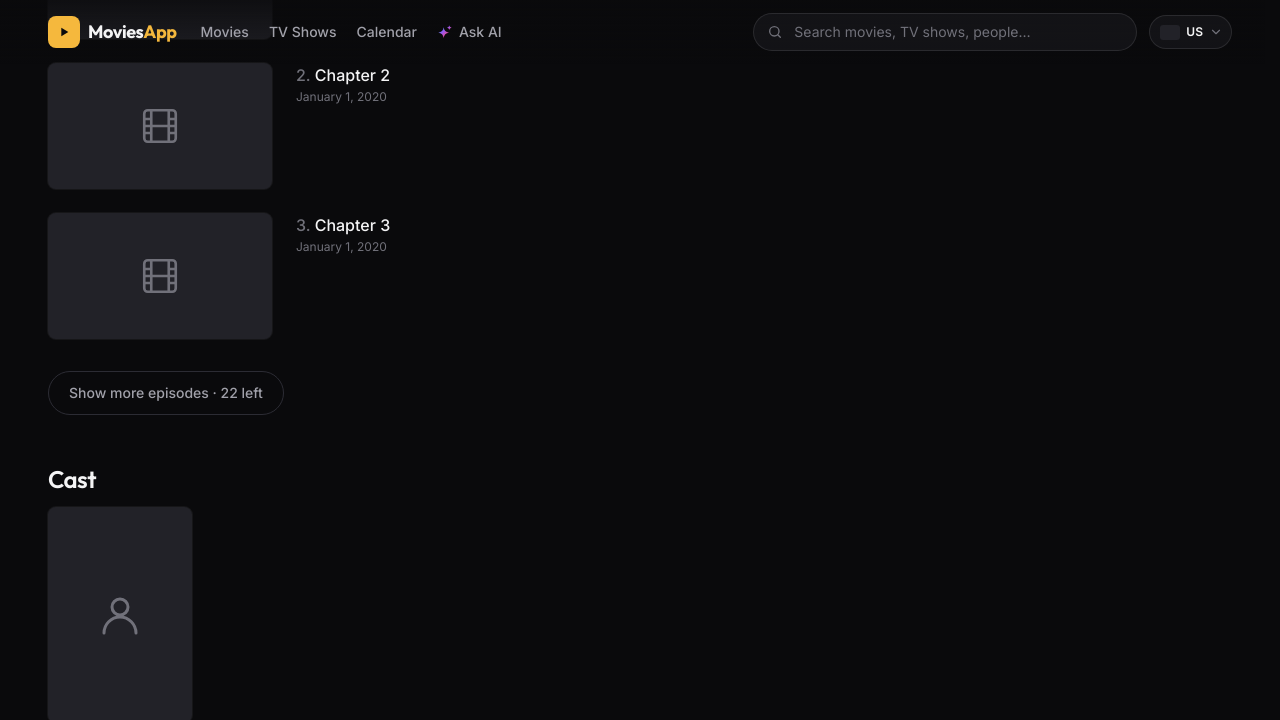
Test: MediaPage › shows the first three episodes, then ten more at a time, and collapses back
(page scrolled)
Check: the button "Show less" is not shown
Click the button "Show more episodes · 22 left": (166, 392) [48,370,284,414]
(page scrolled)
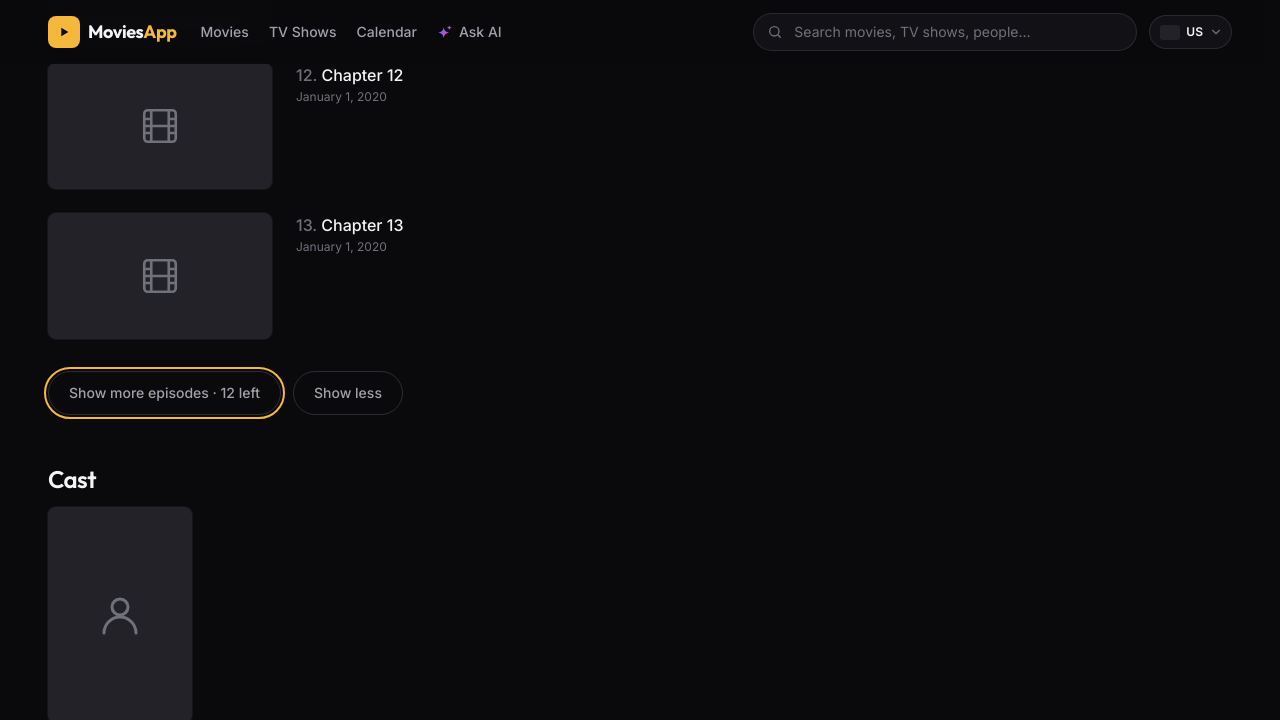
Click the button "Show more episodes · 12 left": (165, 392) [48,370,281,414]
(page scrolled)
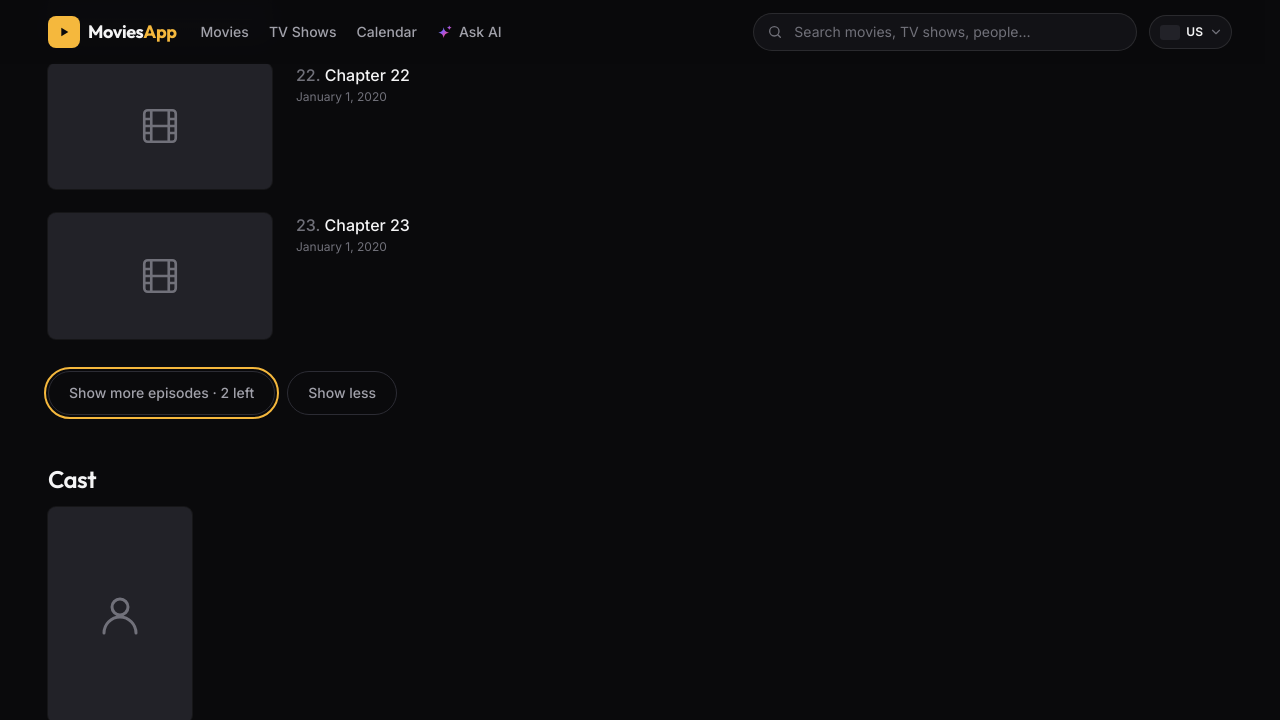
Click the button "Show more episodes · 2 left": (162, 392) [48,370,275,414]
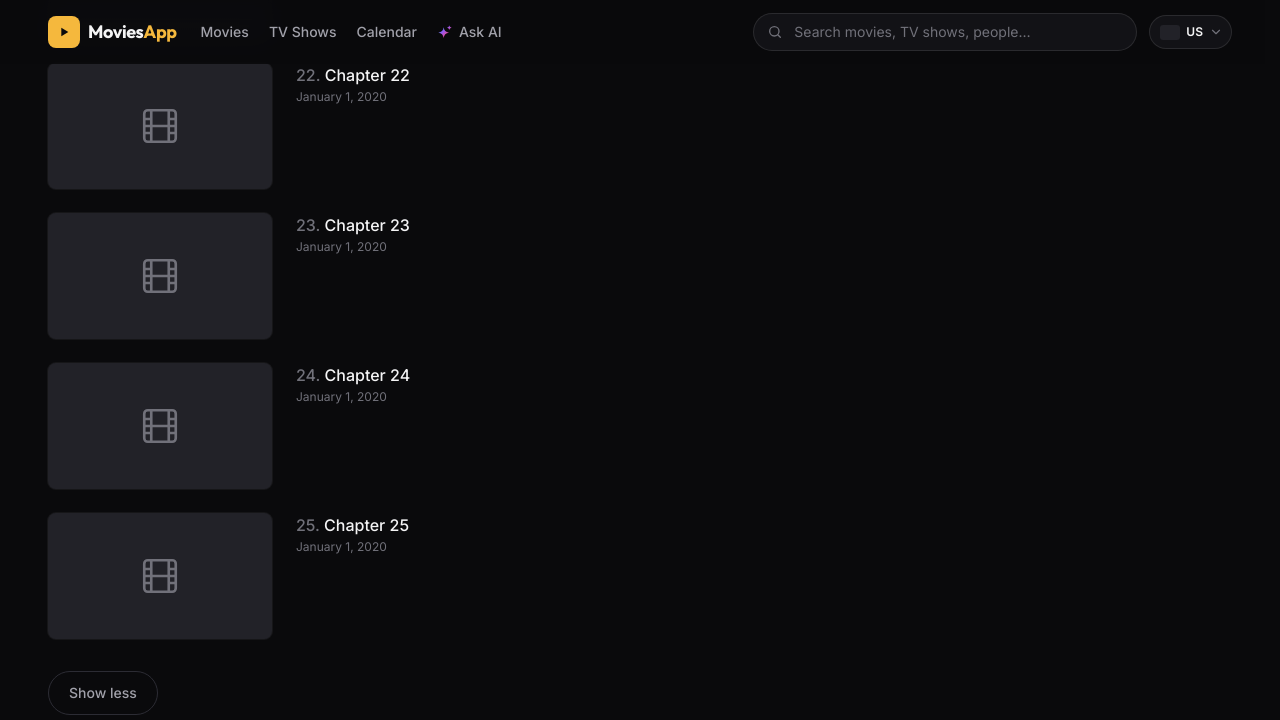
Check: the button "Show more episodes" is gone
Click the button "Show less": (103, 692) [48,670,158,714]
(page scrolled)
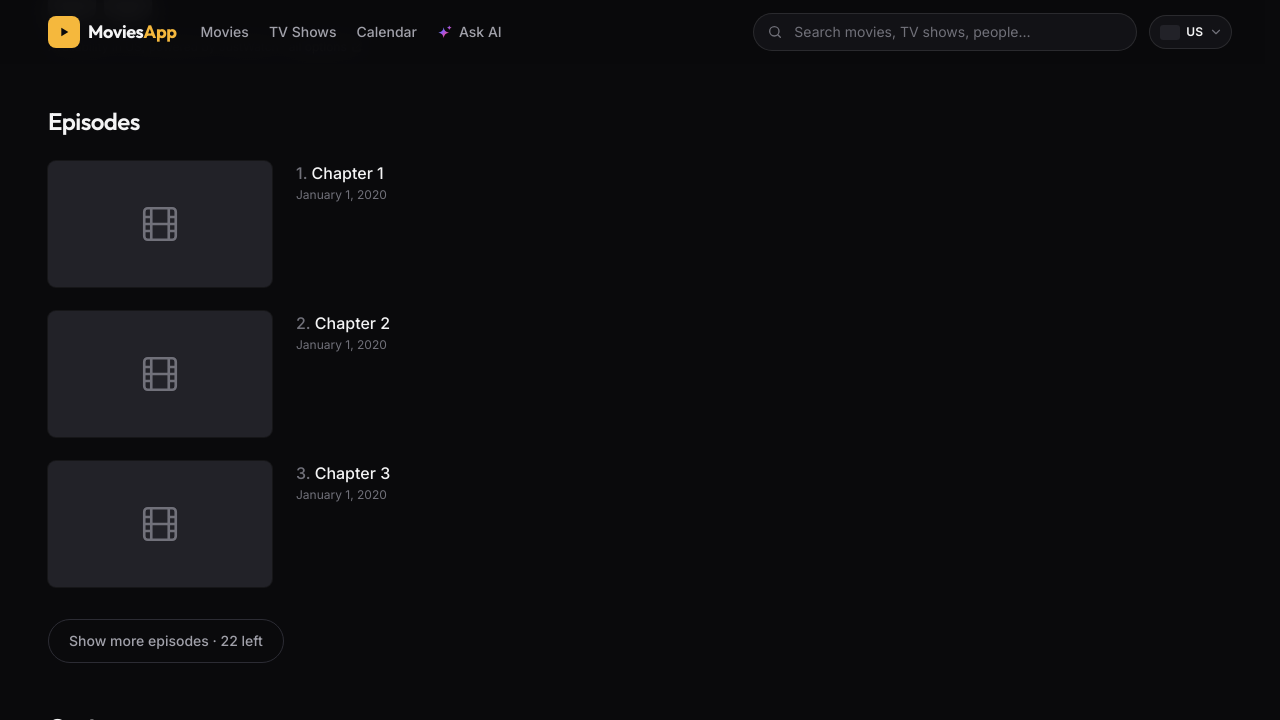
Check: the button "Show more episodes · 22 left" is shown, box [48,618,284,662]
